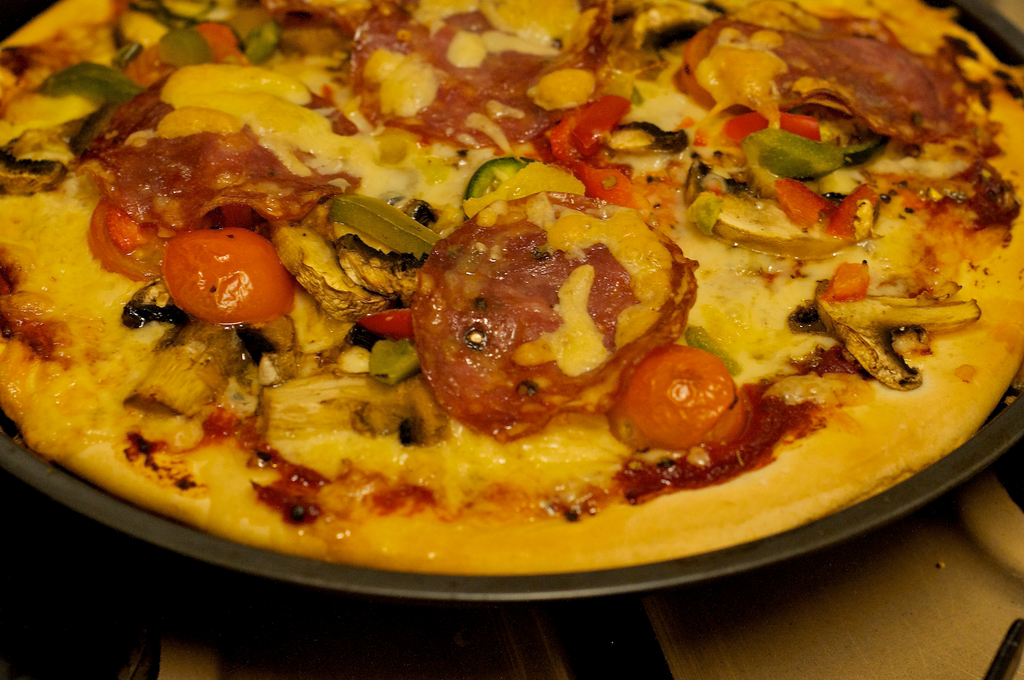Pizza: (0, 0, 1023, 569)
